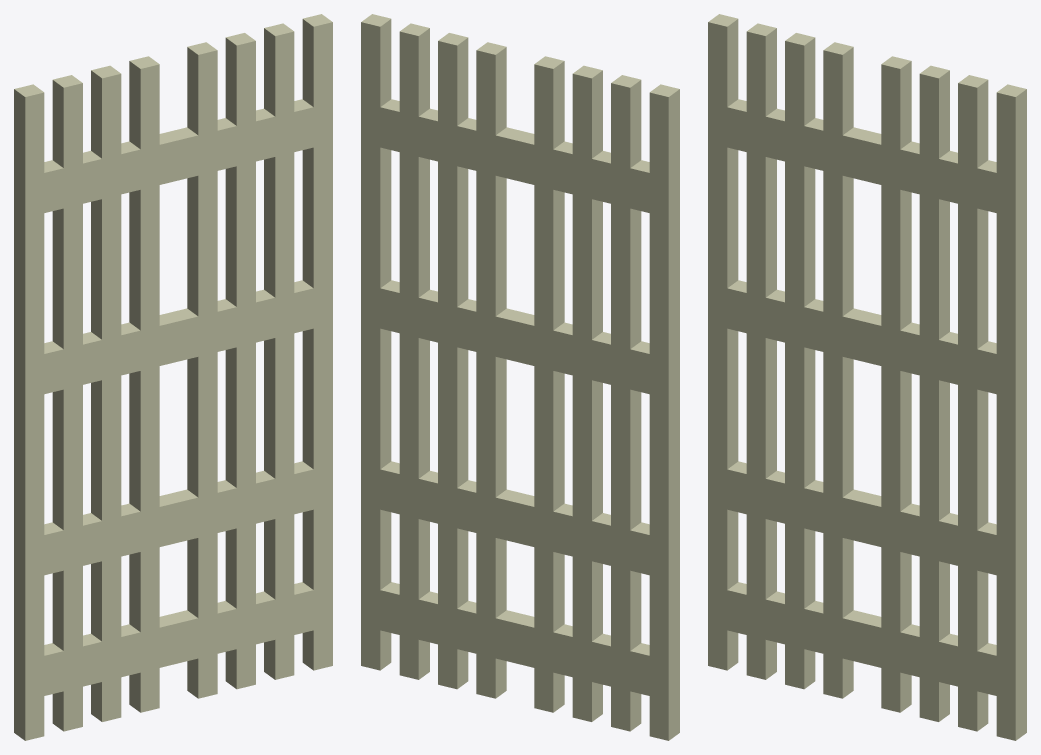
Rendered from Corridor-Door-Tan.vox.obj.
3 views of the same model, side by side, from view 1: azimuth 30°, elevation 25°; view 2: azimuth 150°, elevation 25°; view 3: azimuth 330°, elevation 25° (orthographic).
Size of the model in its own units: 1.6 by 3.2 by 0.1.
1 material, 1 textured.
